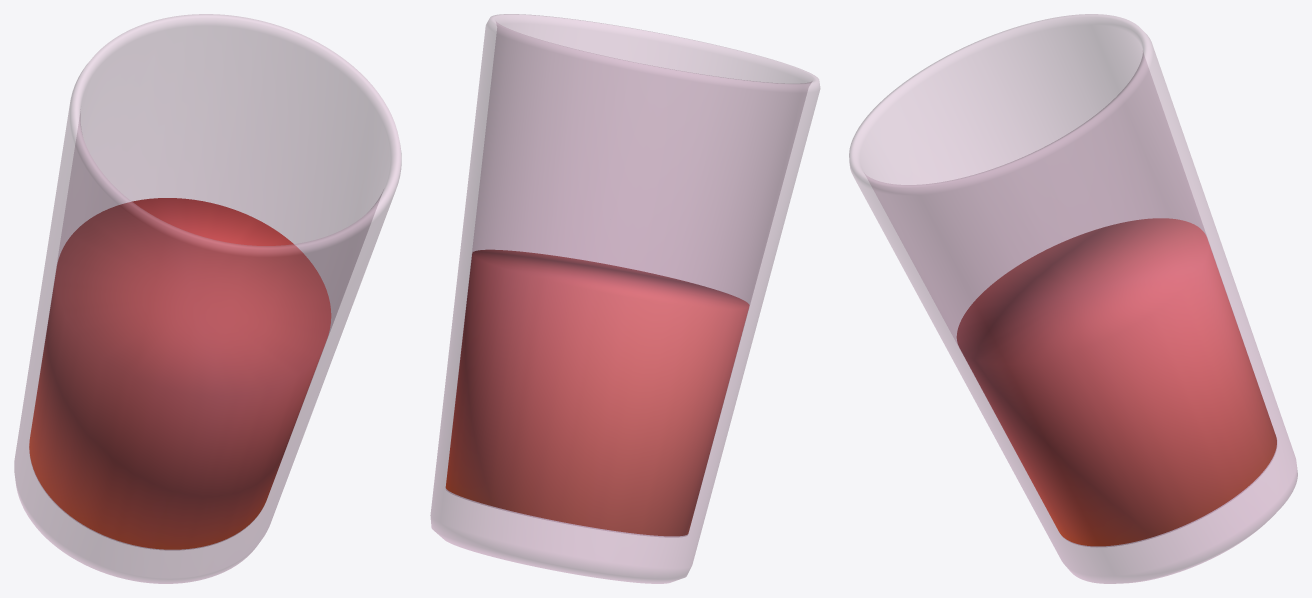
The model's file is half-full-glass.glb.
3 views of the same model, side by side, from view 1: azimuth 30°, elevation 25°; view 2: azimuth 150°, elevation 25°; view 3: azimuth 270°, elevation 25° (orthographic). The views are drawn at different scales.
Visible parts, largest first — view 1: glass, liquid; view 2: glass, liquid; view 3: glass, liquid.
Part boxes in pixels (box(x1,y1,x2,y2)): glass: box(14, 14, 401, 583); liquid: box(29, 198, 331, 549); glass: box(430, 14, 820, 583); liquid: box(445, 249, 749, 536); glass: box(849, 14, 1297, 583); liquid: box(956, 218, 1276, 546).
Size of the model in its own units: 0.5238 by 0.9072 by 0.7182.
